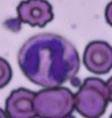N: (16, 33, 78, 86)
